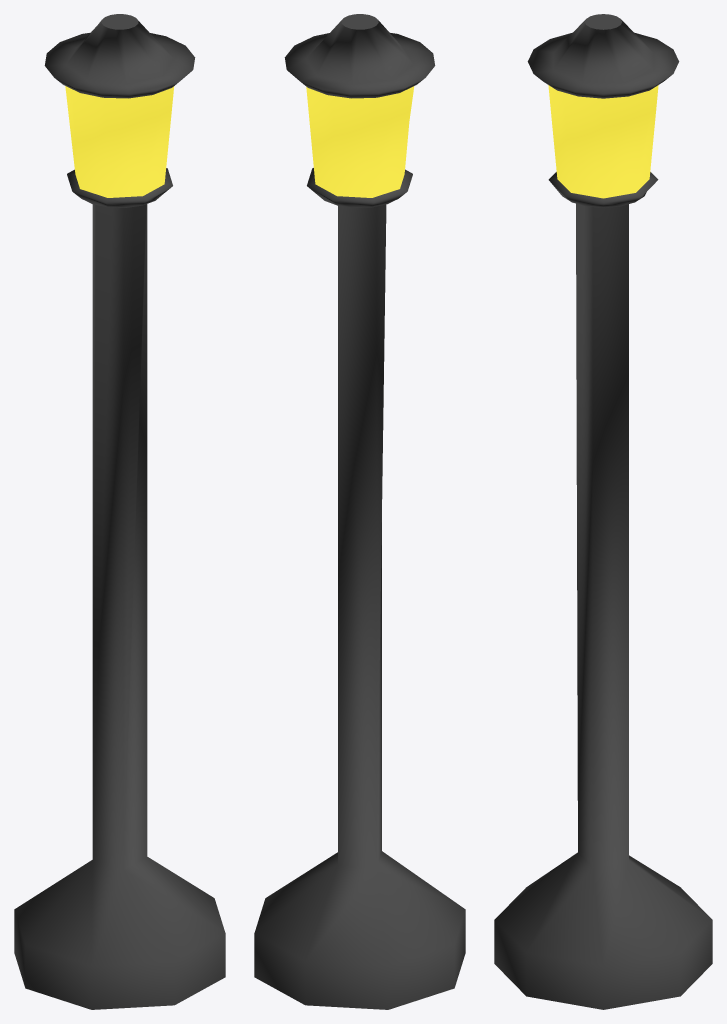
Rendered from Ligth.glb.
3 views of the same model, side by side, from view 1: azimuth 30°, elevation 25°; view 2: azimuth 150°, elevation 25°; view 3: azimuth 270°, elevation 25° (orthographic).
Visible parts, largest first — view 1: Circle; view 2: Circle; view 3: Circle.
Part boxes in pixels (bbox=[...]): Circle: bbox=[14, 14, 225, 1009]; Circle: bbox=[254, 14, 465, 1009]; Circle: bbox=[494, 14, 712, 1009].
Size of the model in its own units: 2 by 9.53 by 2.
